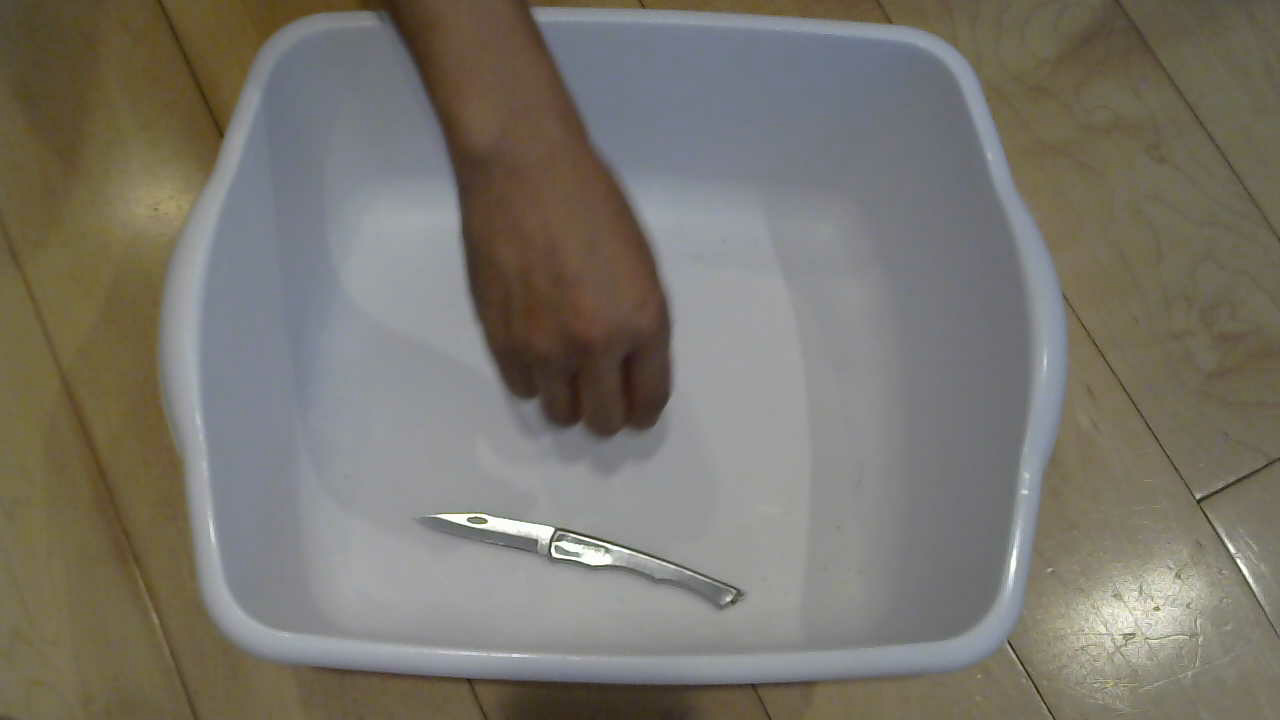knife: (420, 508, 795, 613)
